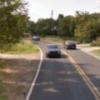cars: (46, 42, 62, 60), (64, 40, 76, 50)
